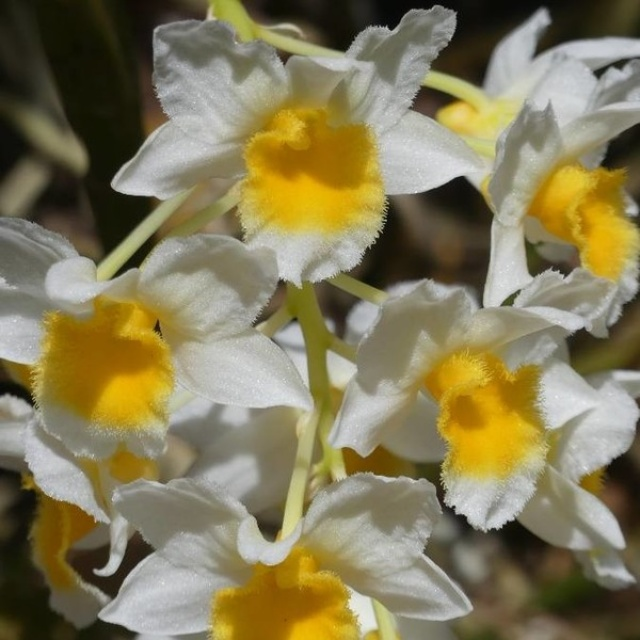obstacle: (100, 71, 559, 617)
